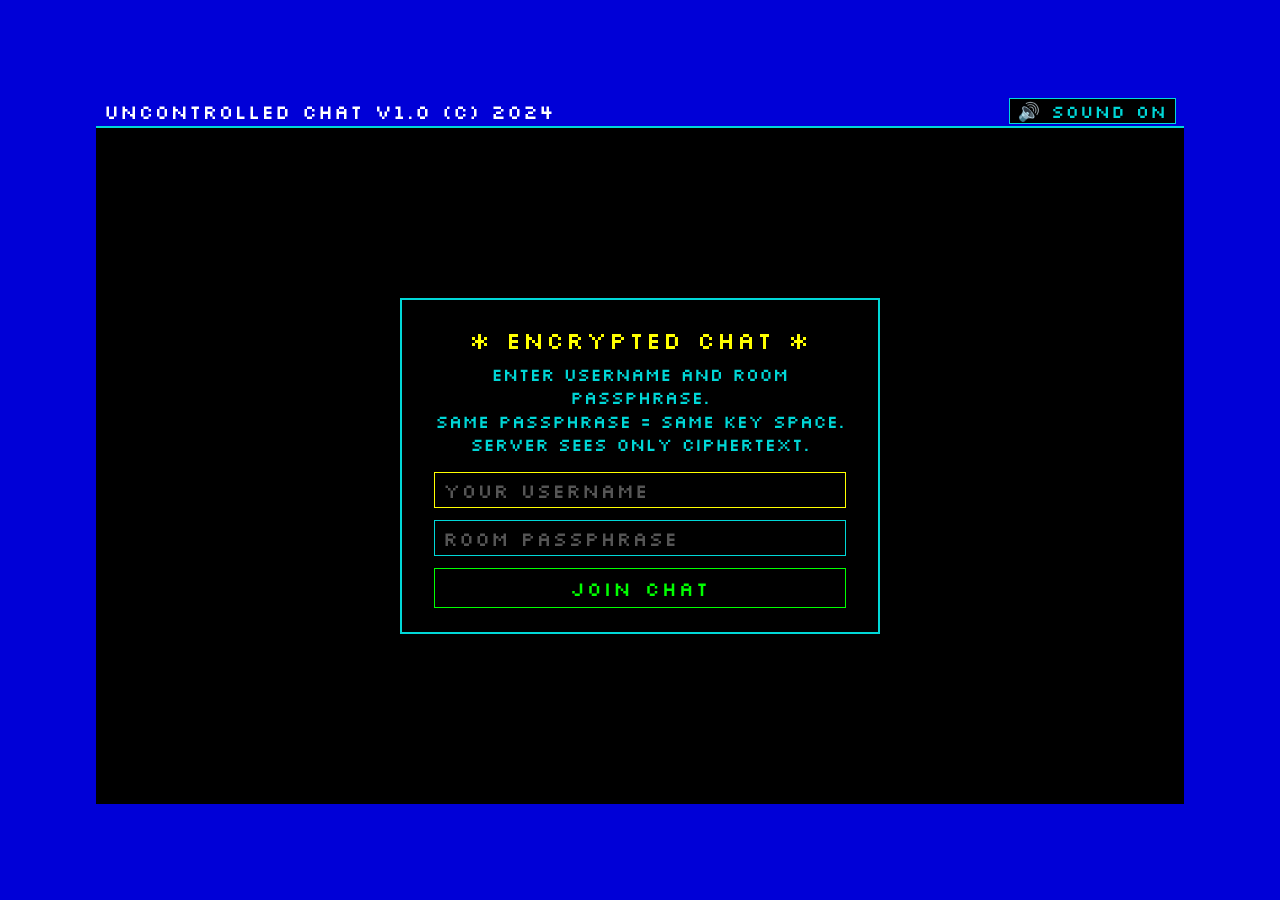
Scenario: Sound toggle button — label toggles on click › toggles back to "SOUND ON" after two clicks (on → off → on)
Step 1. Click the button "🔊 SOUND ON" → (1092, 111), box [1008,98,1176,124]
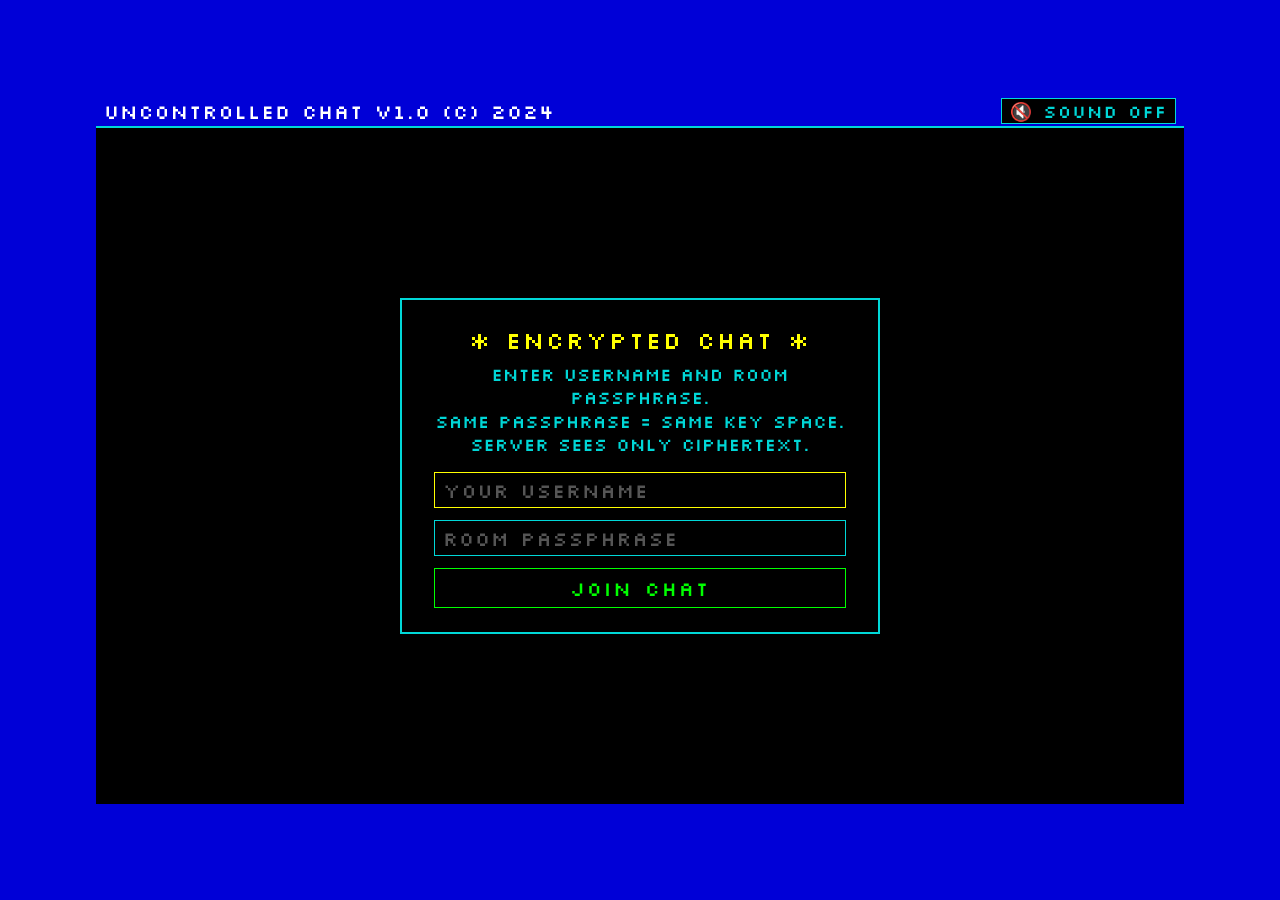
Step 2. Click the button "🔇 SOUND OFF" → (1088, 111), box [1001,98,1176,124]
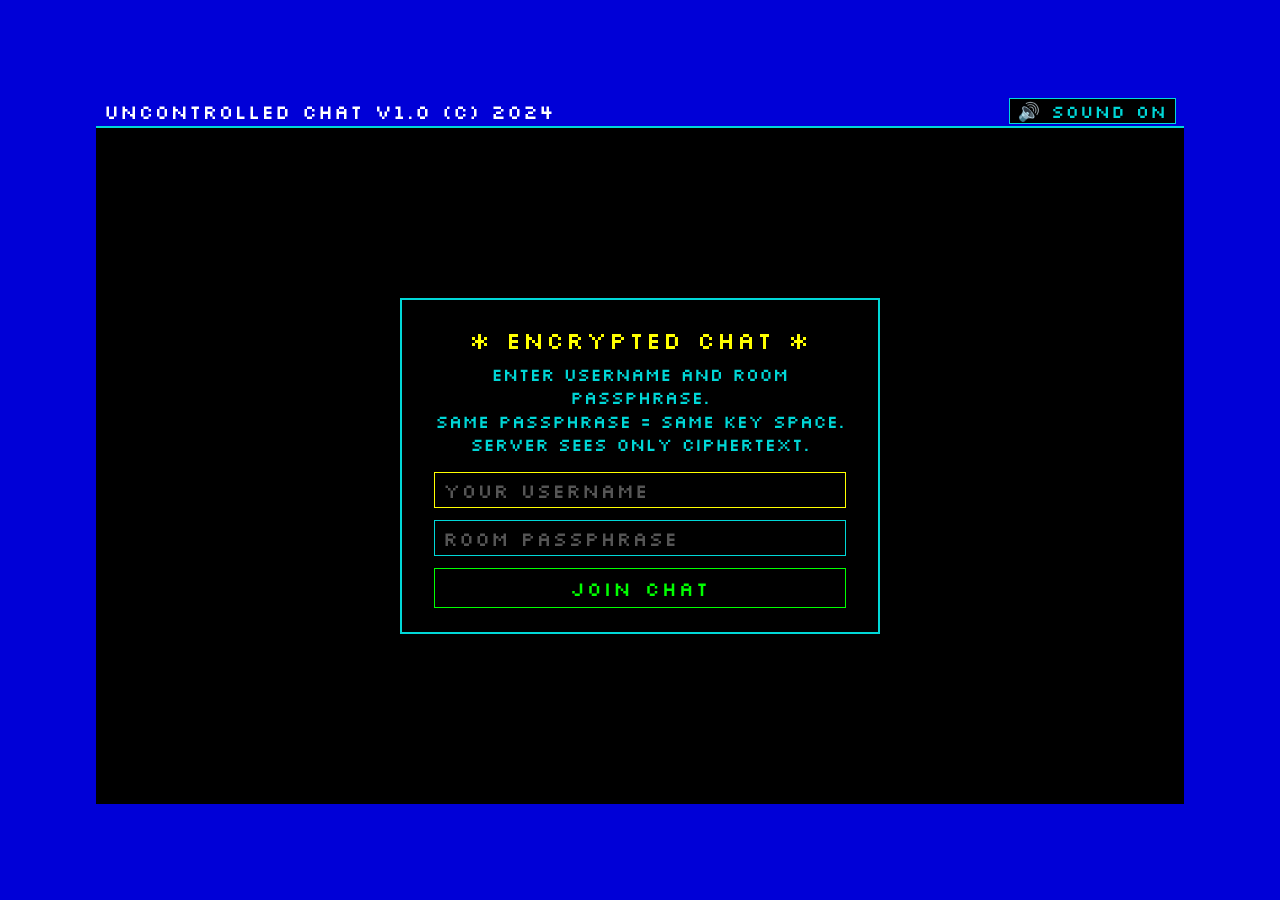
Expected: the button "🔊 SOUND ON" is shown, [1008,98,1176,124]
Expected: the button "SOUND" no longer shows "OFF"
